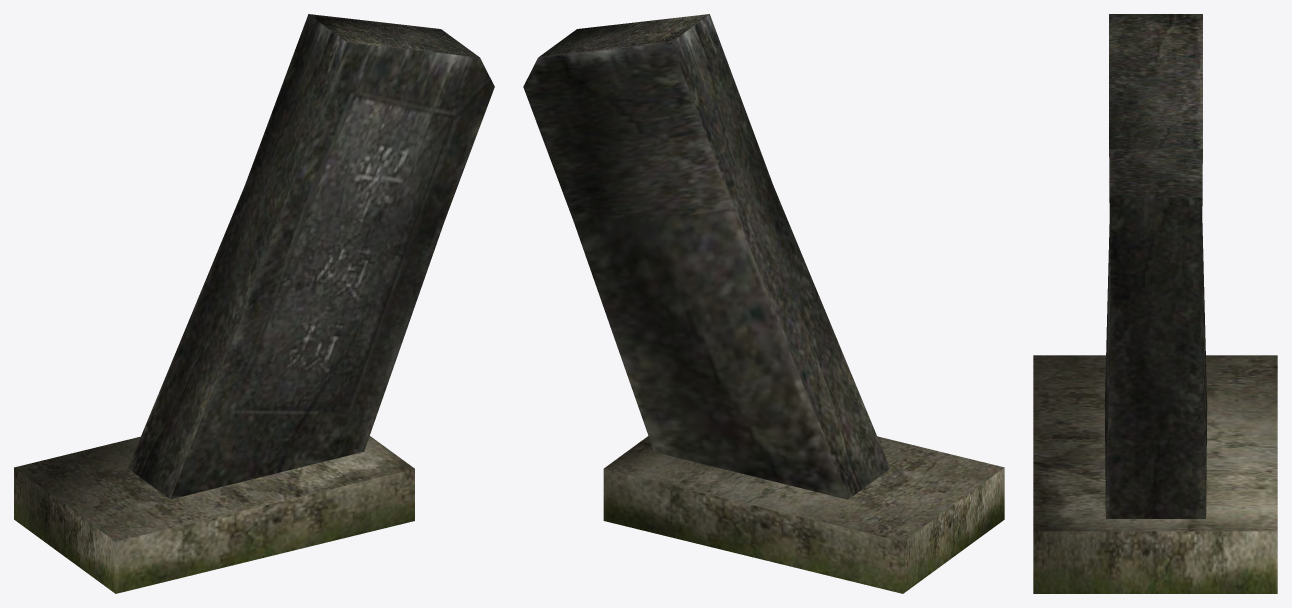
The model's file is cj_grave_tombstone06_01.glb.
The picture shows the model from 3 angles, left to right: view 1: azimuth 30°, elevation 25°; view 2: azimuth 150°, elevation 25°; view 3: azimuth 270°, elevation 25°; orthographic projection. The views are drawn at different scales.
Visible parts, largest first — view 1: cj_grave_tombstone06_01, cj_grave_tombstone06_02; view 2: cj_grave_tombstone06_01, cj_grave_tombstone06_02; view 3: cj_grave_tombstone06_01, cj_grave_tombstone06_02.
Boxes of the visible parts, x1,y1,x2,y2 form: cj_grave_tombstone06_01: (128,14,494,499); cj_grave_tombstone06_02: (14,436,414,593); cj_grave_tombstone06_01: (523,14,890,499); cj_grave_tombstone06_02: (603,436,1004,593); cj_grave_tombstone06_01: (1104,14,1207,518); cj_grave_tombstone06_02: (1033,355,1277,593).
Size of the model in its own units: 1.46 by 1.57 by 0.6235.
2 materials, 2 textured.
